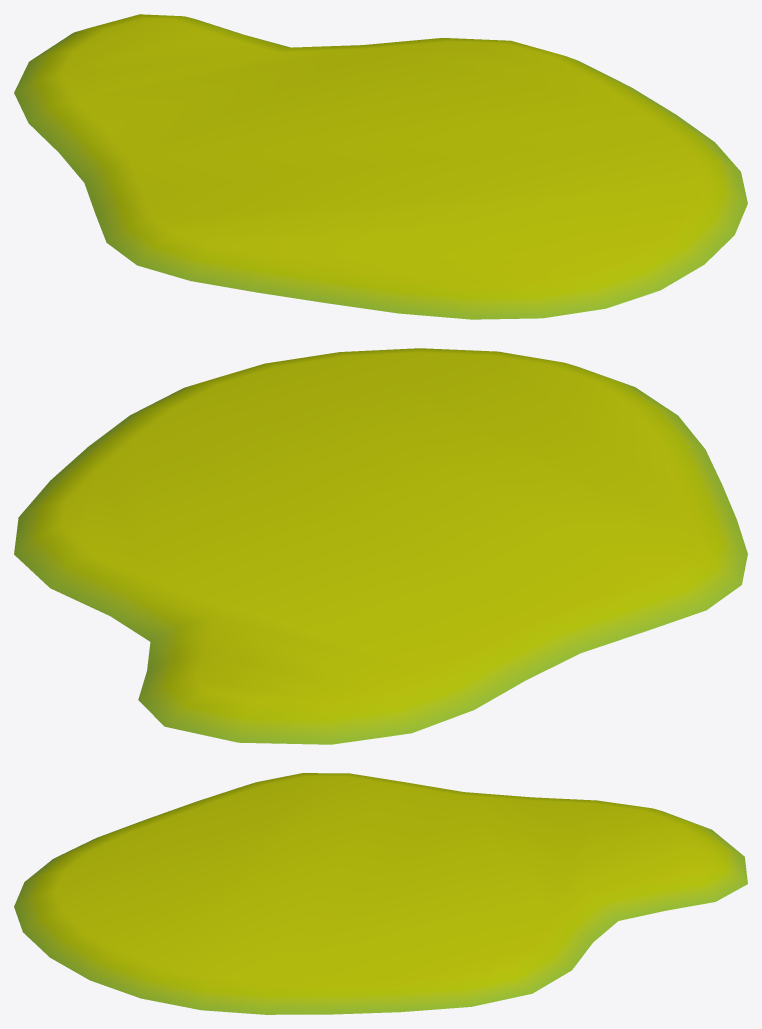
Rendered from puddle3.fbx.
3 renders of one model, top to bottom at view 1: azimuth 30°, elevation 25°; view 2: azimuth 150°, elevation 25°; view 3: azimuth 270°, elevation 25°, orthographic. The views are drawn at different scales.
Parts seen in each view (by area): view 1: puddle3; view 2: puddle3; view 3: puddle3.
Boxes of the visible parts, bbox=[...] form: puddle3: bbox=[14, 14, 747, 319]; puddle3: bbox=[14, 348, 747, 744]; puddle3: bbox=[14, 773, 747, 1014].
Bounding box in the file's own units: 441 × 13.67 × 571.
